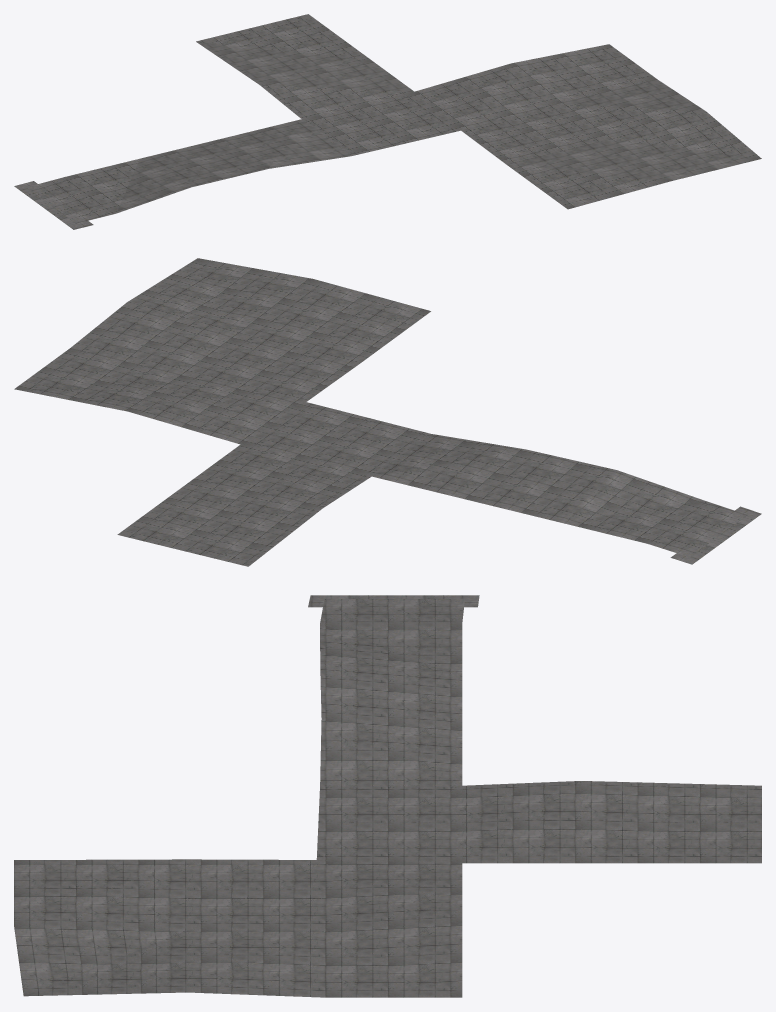
File: lawngrnda.obj
3 renders of one model, top to bottom at view 1: azimuth 30°, elevation 25°; view 2: azimuth 150°, elevation 25°; view 3: azimuth 270°, elevation 25°, orthographic. The views are drawn at different scales.
Visible parts, largest first — view 1: lawngrnda; view 2: lawngrnda; view 3: lawngrnda.
Boxes of the visible parts, <box> form: lawngrnda: <box>14,14,761,229</box>; lawngrnda: <box>14,258,761,566</box>; lawngrnda: <box>14,595,761,997</box>.
Size of the model in its own units: 61.25 by 1.05 by 47.67.
